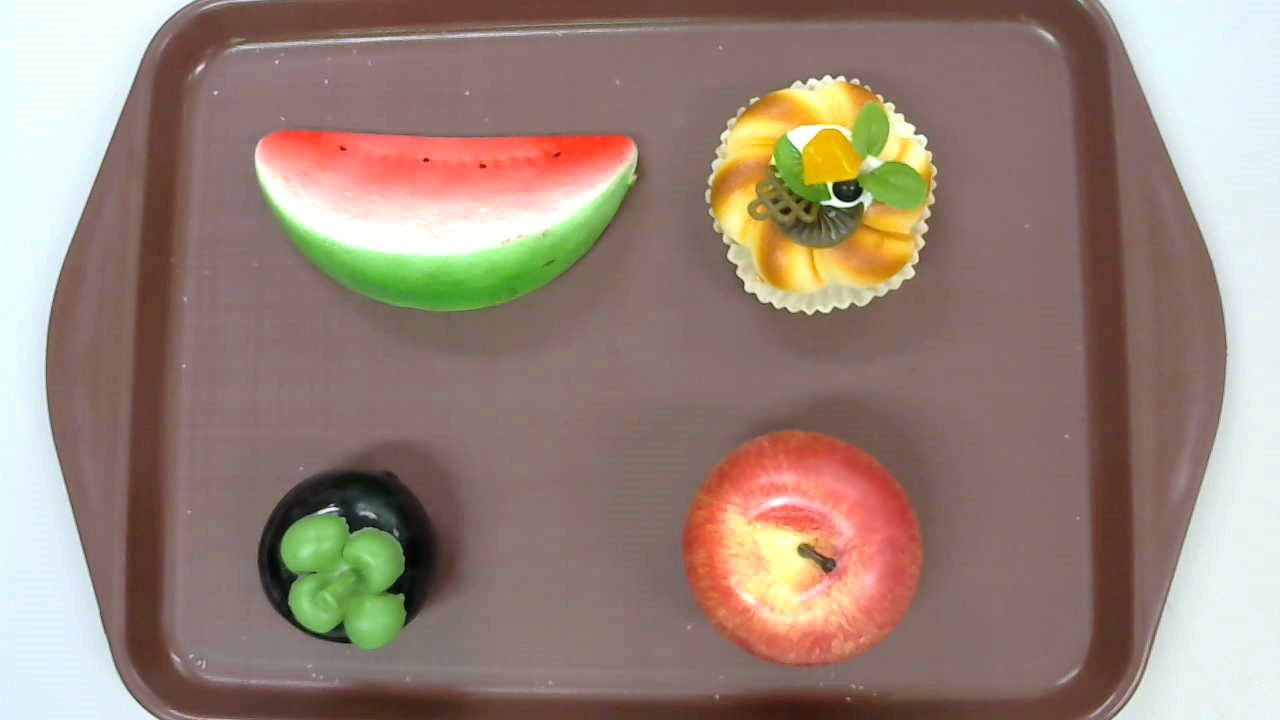fruit tower: (705, 74, 939, 319)
mangosteen: (257, 466, 441, 652)
red apple: (681, 428, 924, 667)
watermelon: (253, 127, 639, 314)
